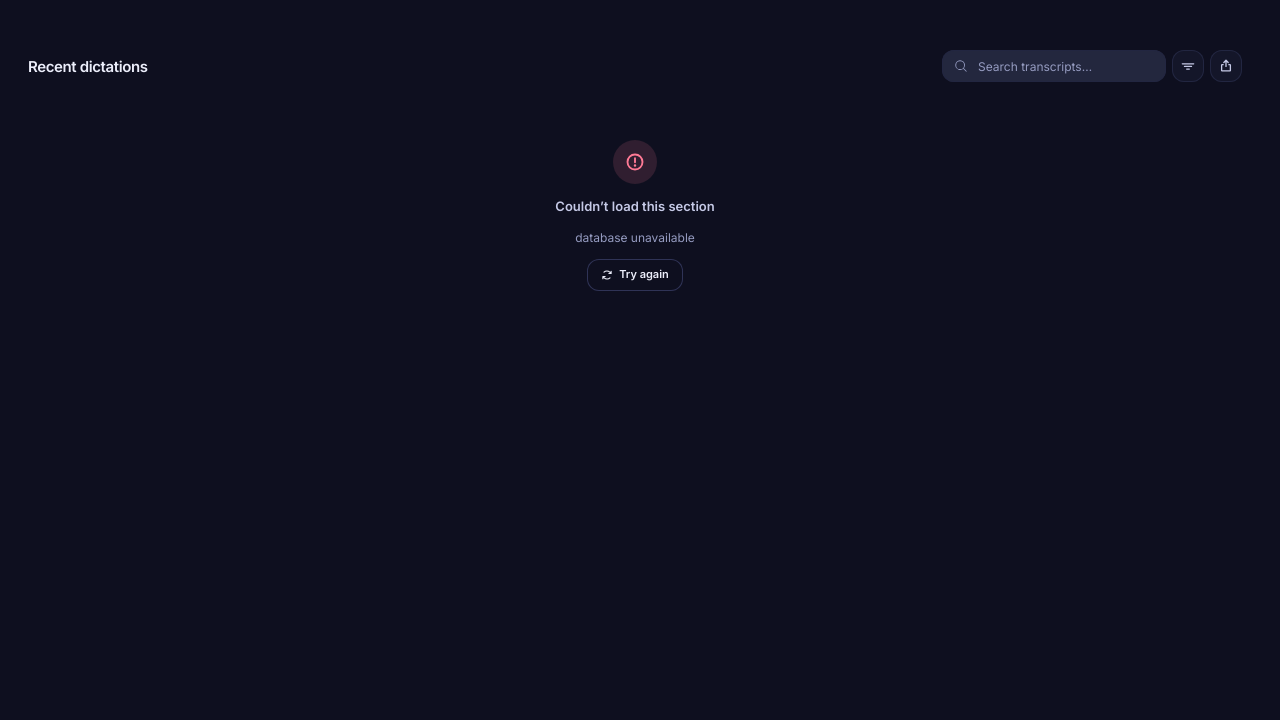
Test: Dashboard — database failure › shows one error when stats and activity both fail, and retries both
Check: the number of messages is 1, box top-left (555, 140), bottom-right (715, 291)
Click the button "Try again" at (635, 275), box top-left (587, 259), bottom-right (683, 291)
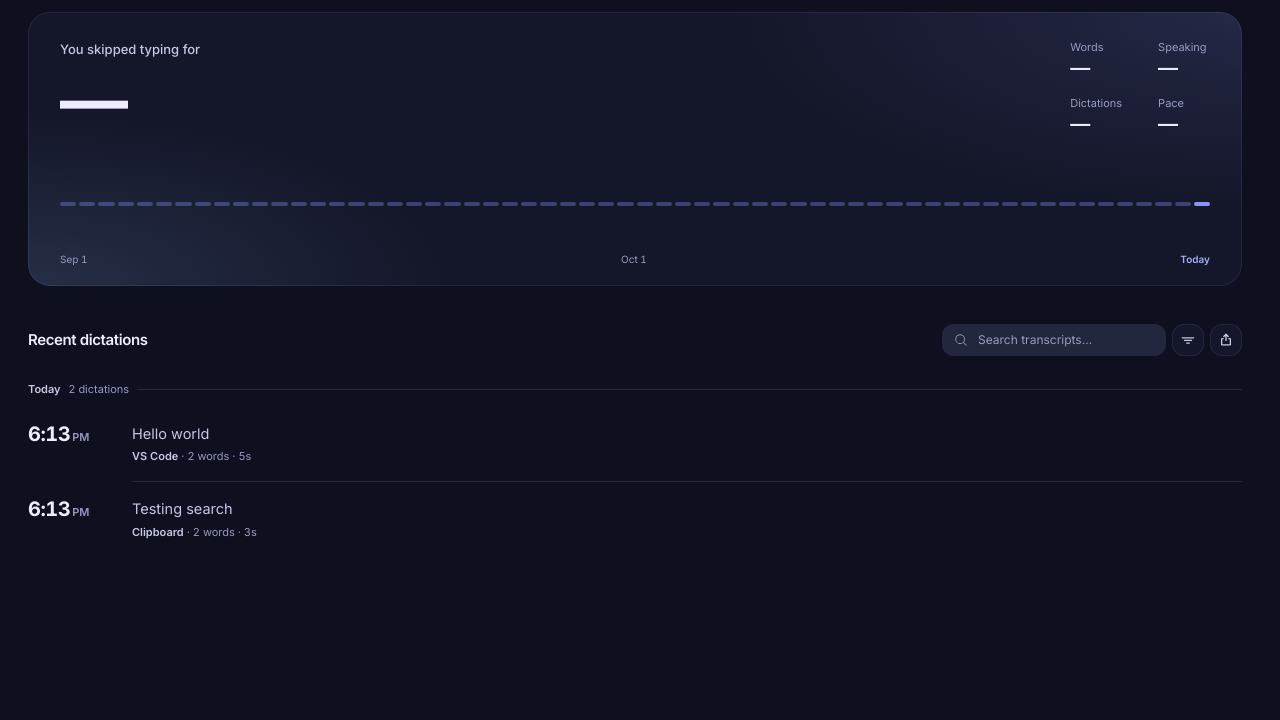
Check: the text "Hello world" is shown, box top-left (132, 425), bottom-right (209, 442)
